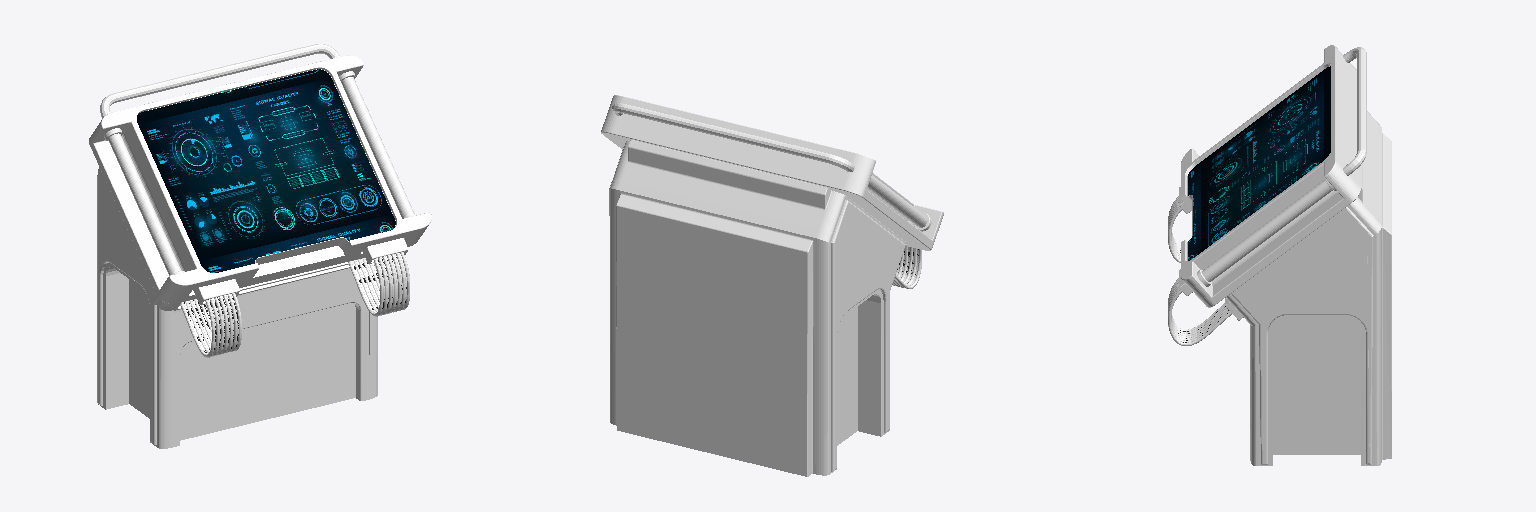
3 views of the same model, side by side, from view 1: azimuth 30°, elevation 25°; view 2: azimuth 150°, elevation 25°; view 3: azimuth 270°, elevation 25° (orthographic).
Visible parts, largest first — view 1: obj36, obj20, obj14, obj37, obj19, obj17, obj18, obj21, obj15, obj16; view 2: obj20, obj14, obj37, obj19, obj17; view 3: obj20, obj36, obj38, obj14, obj18, obj19.
Part boxes in pixels (x1,y1,x2,y2): obj36: (137,69,395,272); obj20: (98,167,377,448); obj14: (89,55,431,303); obj37: (97,171,159,444); obj19: (100,44,339,118); obj17: (104,128,184,275); obj18: (339,71,416,218); obj21: (172,262,349,310); obj15: (193,279,239,304); obj16: (362,238,408,263); obj20: (610,140,905,476); obj14: (601,95,943,250); obj37: (831,200,905,471); obj19: (612,103,854,171); obj17: (867,175,931,231); obj20: (1226,111,1391,465); obj36: (1188,66,1330,260); obj38: (1231,207,1373,464); obj14: (1181,45,1360,307); obj18: (1197,178,1336,286); obj19: (1343,47,1366,175).
Bounding box in the file's own units: 3 × 3.44 × 2.23.
3 materials, 1 textured.